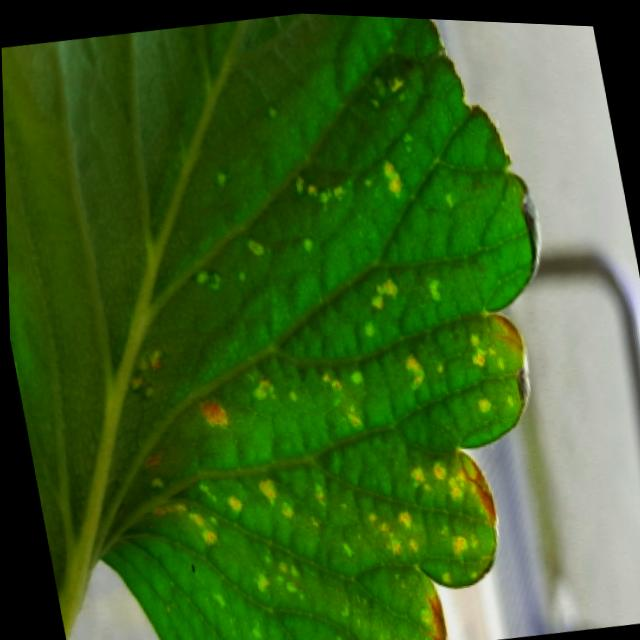Angular Leafspot: (109, 13, 526, 640)
